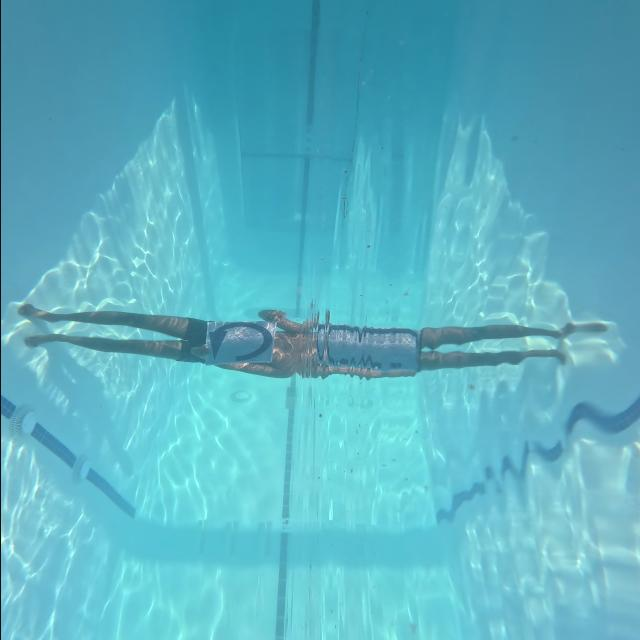blue_side: (202, 317, 278, 365)
